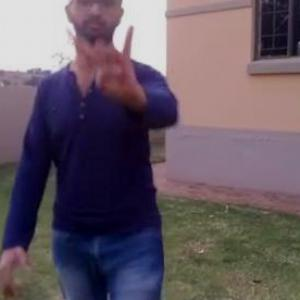takeoff-hand: (64, 20, 140, 106)
